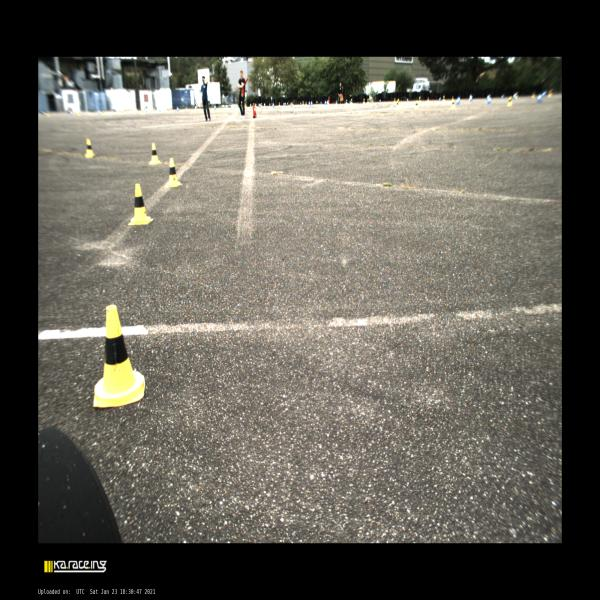blue_cone: (537, 95, 541, 102), (456, 98, 459, 105), (488, 98, 491, 104), (469, 95, 472, 101), (487, 95, 490, 100), (458, 96, 460, 103), (290, 102, 292, 107), (284, 102, 286, 106), (177, 107, 179, 111), (214, 106, 216, 109), (439, 97, 440, 101), (407, 98, 408, 102), (379, 100, 381, 102), (325, 100, 326, 104), (320, 102, 322, 104), (311, 101, 312, 105), (309, 101, 310, 105), (273, 103, 274, 107), (250, 103, 251, 107), (264, 102, 265, 106), (300, 102, 301, 105), (269, 103, 270, 106), (284, 103, 284, 106), (260, 103, 260, 107), (256, 104, 256, 107)
yellow_cone: (94, 305, 145, 407), (128, 183, 153, 225), (166, 158, 182, 188), (148, 142, 160, 164), (85, 139, 94, 157), (507, 96, 512, 106), (450, 98, 455, 108), (415, 100, 418, 109), (396, 100, 399, 108), (418, 96, 421, 103), (442, 95, 444, 102), (427, 97, 429, 103), (367, 99, 369, 105), (363, 98, 365, 104), (346, 99, 348, 105), (398, 99, 400, 104), (350, 99, 352, 104), (305, 101, 307, 106), (316, 101, 318, 105), (302, 101, 304, 105), (258, 103, 260, 107), (244, 104, 246, 108), (252, 103, 254, 107), (254, 103, 256, 107), (292, 102, 294, 105), (336, 100, 337, 105), (287, 102, 288, 106), (279, 102, 280, 106), (261, 102, 262, 106), (195, 107, 196, 111)
